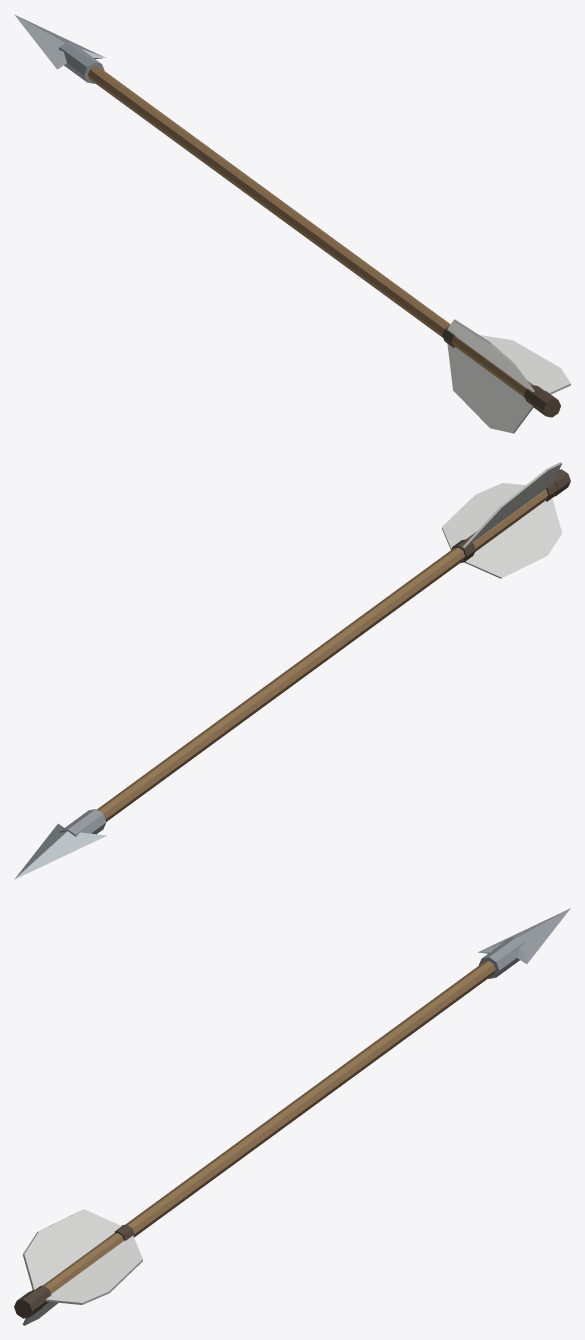
Rendered from Iron Arrows-DDpOYKWa.glb.
3 renders of one model, top to bottom at view 1: azimuth 30°, elevation 25°; view 2: azimuth 150°, elevation 25°; view 3: azimuth 330°, elevation 25°, orthographic.
Visible parts, largest first — view 1: Iron_Arrow; view 2: Iron_Arrow; view 3: Iron_Arrow.
Part boxes in pixels (x1,y1,x2,y2): Iron_Arrow: [14, 14, 570, 433]; Iron_Arrow: [14, 462, 570, 879]; Iron_Arrow: [14, 908, 570, 1325].
Size of the model in its own units: 0.111 by 0.1279 by 1.46.
